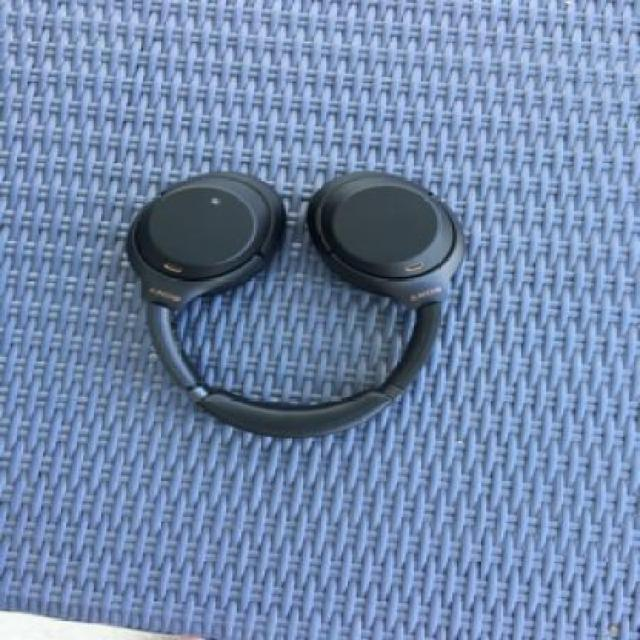earphone: (107, 110, 493, 447)
